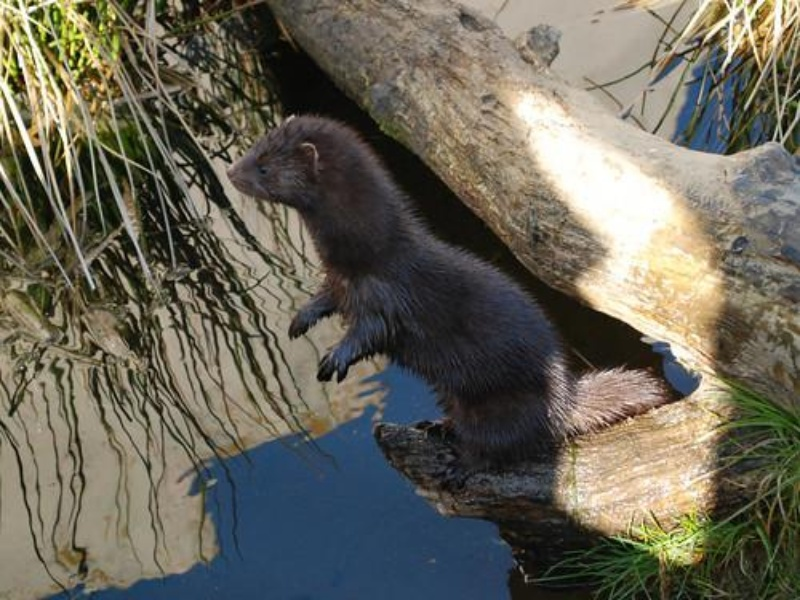minkish: (230, 109, 670, 464)
